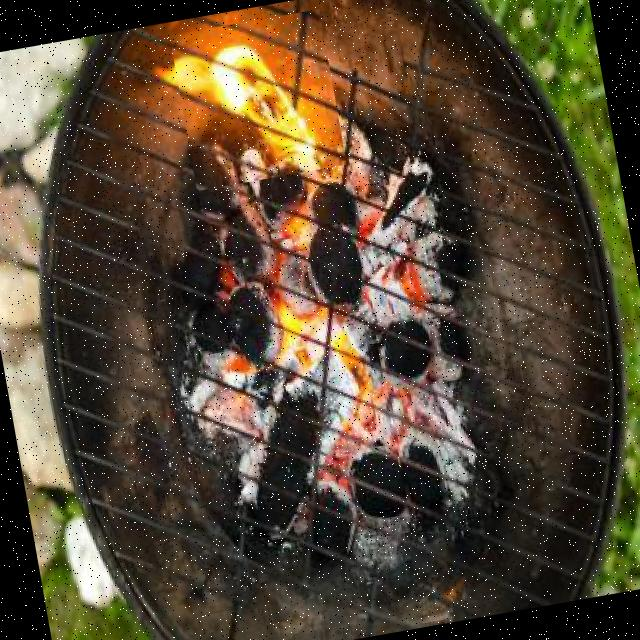fire: (170, 8, 346, 190)
